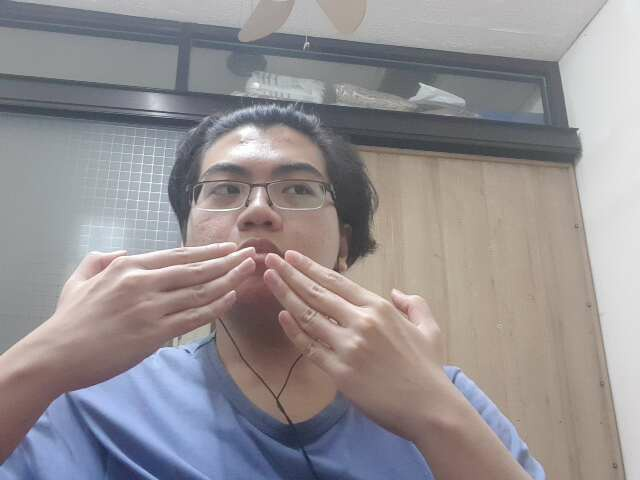thanks: (51, 233, 482, 434)
